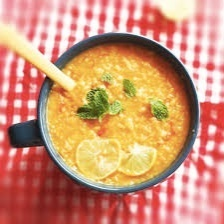sabzi: (44, 40, 193, 187)
